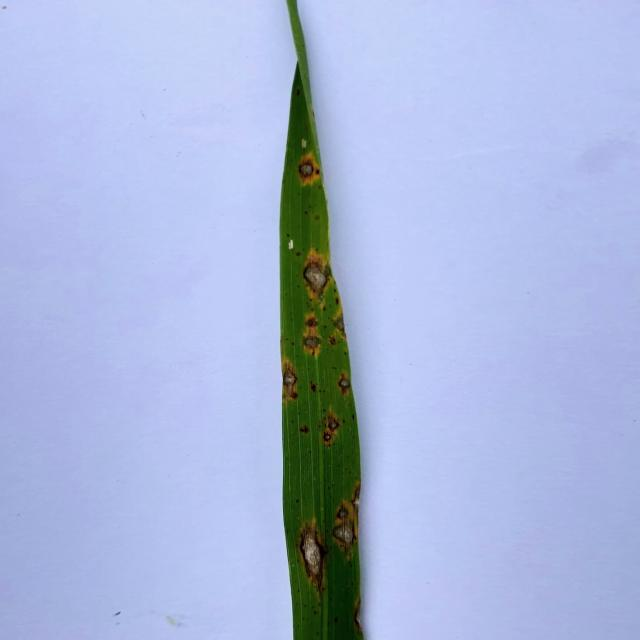leaf blast: (295, 519, 326, 598), (300, 247, 331, 306), (294, 151, 325, 191), (281, 356, 300, 404), (318, 411, 345, 444), (329, 520, 357, 551), (328, 305, 349, 340), (301, 330, 324, 358), (297, 310, 325, 328), (336, 371, 354, 397), (349, 481, 360, 519), (352, 599, 362, 638), (335, 505, 351, 523), (327, 332, 339, 351)
